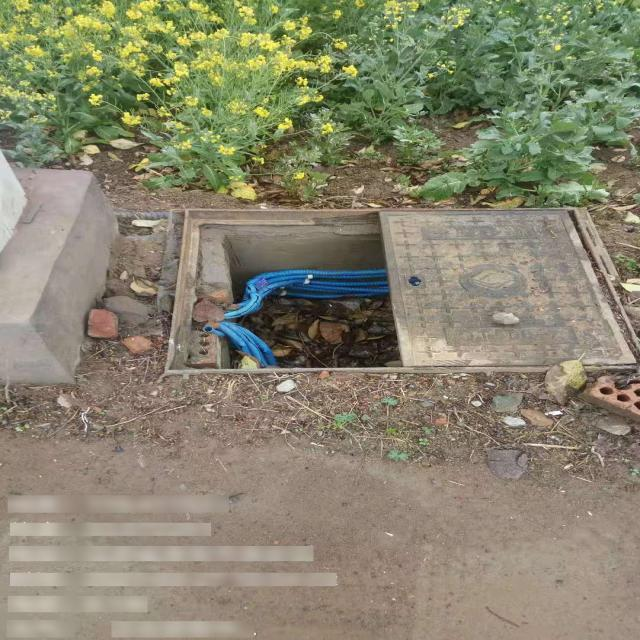Faulty: (160, 205, 640, 376)
